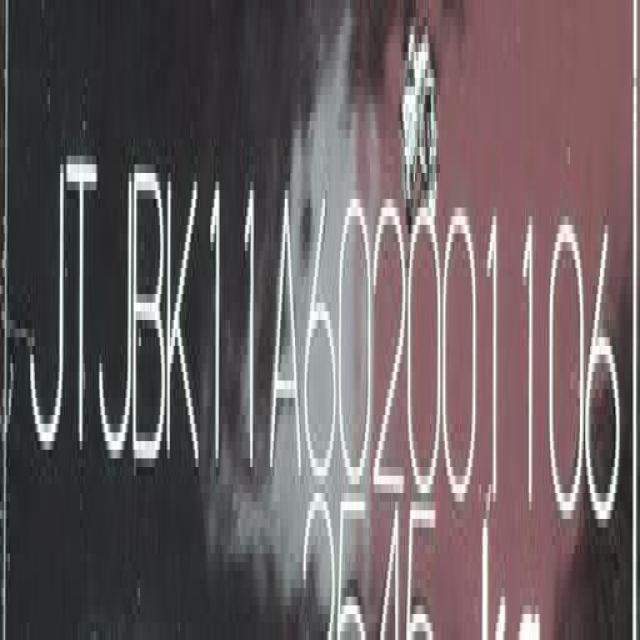0: (546, 214, 584, 528), (441, 199, 478, 509), (407, 198, 441, 500), (337, 195, 373, 480)
1: (520, 189, 536, 528), (207, 157, 224, 474), (241, 170, 256, 477), (486, 198, 500, 519)
2: (372, 198, 408, 500)
6: (585, 211, 621, 535), (303, 176, 337, 493)
A: (268, 182, 303, 487)
B: (132, 154, 166, 471)
J: (28, 151, 68, 490), (99, 144, 133, 481)
K: (166, 157, 204, 487)
T: (68, 150, 97, 483)
